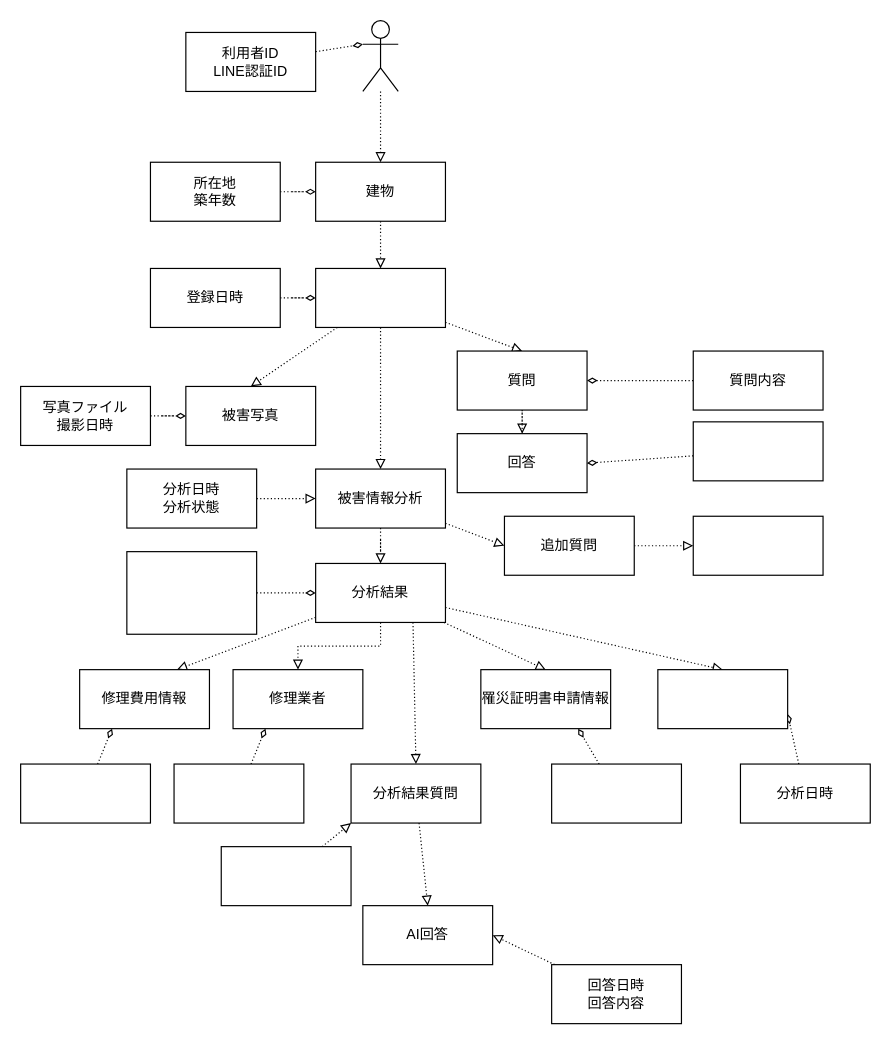
This 891x1044 diagram has some shape labels left out. The shapes that lost their labels are listed below. From the top down, each one's box as (x1, y1, x2, y2) in pixels, then its label:
(362, 19, 398, 91): 利用者
(314, 267, 445, 327): 被害情報
(692, 421, 823, 481): 回答内容
(692, 515, 823, 575): 追加回答
(126, 550, 257, 634): 被害程度 被害状況 分析日時 被害判定
(657, 668, 788, 729): 分析履歴
(19, 763, 150, 823): 修理内容 費用下限 費用上限
(173, 763, 304, 823): 業者名 住所 電話番号
(550, 763, 681, 823): 申請方法 必要書類 申請先
(220, 845, 351, 906): 質問日時 質問内容
